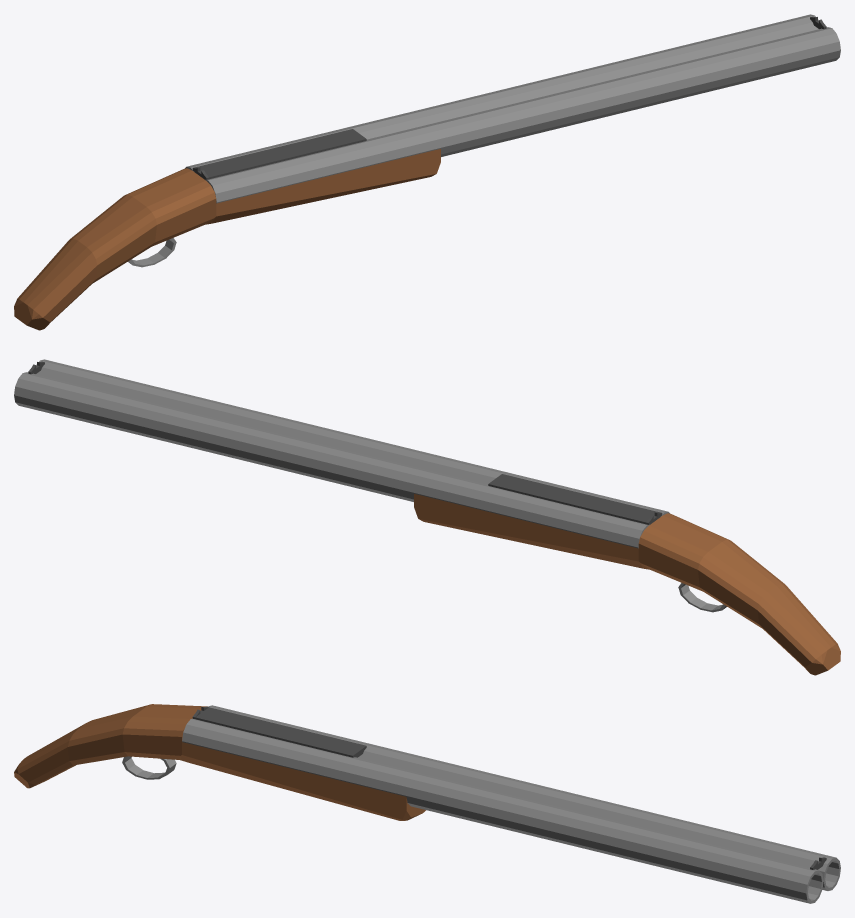
The model's file is Shotgun.fbx.
The picture shows the model from 3 angles, top to bottom: view 1: azimuth 30°, elevation 25°; view 2: azimuth 150°, elevation 25°; view 3: azimuth 330°, elevation 25°; orthographic projection.
Visible parts, largest first — view 1: BackStack, Right Front Barrel, Stock, Left Front Barrel; view 2: BackStack, Left Front Barrel, Stock, Right Front Barrel; view 3: BackStack, Right Front Barrel, Stock, Left Front Barrel.
Boxes of the visible parts, bbox=[...] form: BackStack: bbox=[185, 106, 463, 223]; Right Front Barrel: bbox=[451, 27, 840, 152]; Stock: bbox=[14, 168, 216, 330]; Left Front Barrel: bbox=[433, 14, 818, 120]; BackStack: bbox=[391, 451, 669, 568]; Left Front Barrel: bbox=[14, 372, 403, 497]; Stock: bbox=[638, 513, 840, 675]; Right Front Barrel: bbox=[36, 359, 421, 465]; BackStack: bbox=[182, 705, 458, 820]; Right Front Barrel: bbox=[428, 778, 823, 903]; Stock: bbox=[14, 704, 207, 788]; Left Front Barrel: bbox=[447, 765, 840, 890].
Size of the model in its own units: 5345 by 739 by 400.
